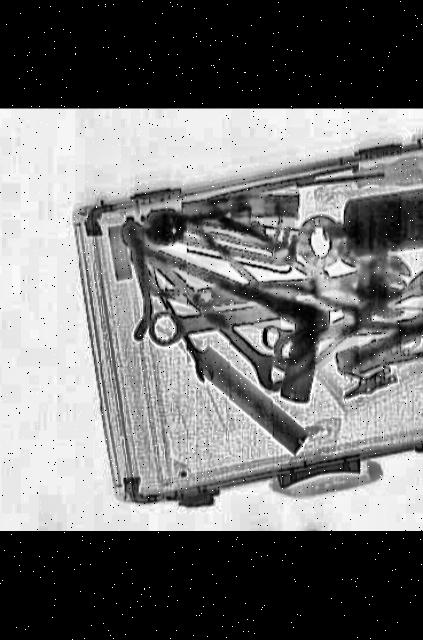Pliers: (320, 307, 423, 386)
Wrench: (107, 215, 302, 398), (142, 282, 392, 350), (185, 257, 412, 320), (256, 307, 423, 358), (150, 296, 214, 385)
